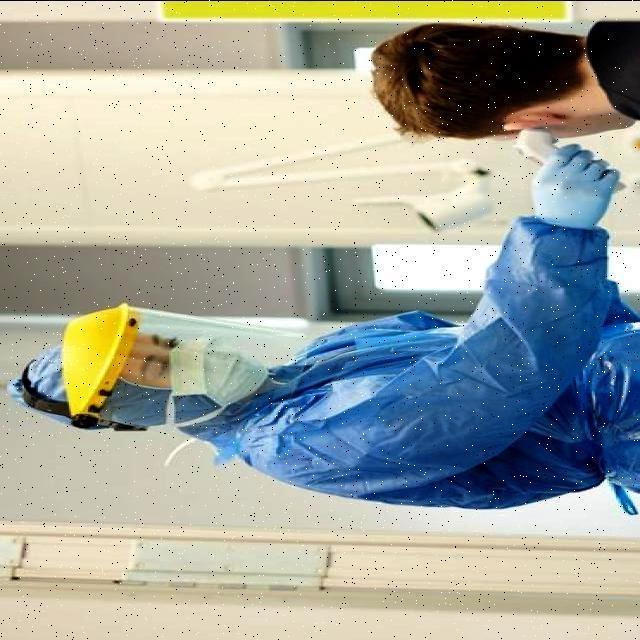apron: (526, 138, 624, 222)
